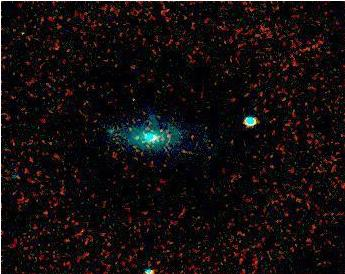star: (118, 125, 148, 155)
